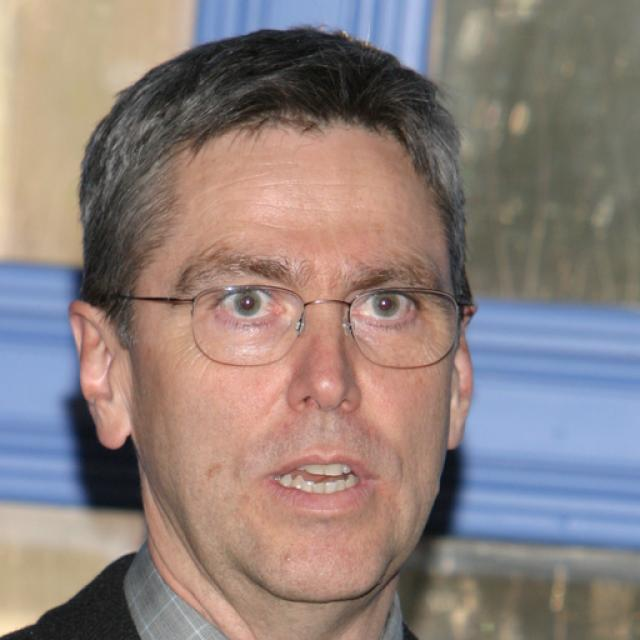Acne: (278, 550, 295, 570), (309, 216, 329, 233)
Wrinkle: (264, 176, 382, 191), (206, 170, 272, 194), (257, 199, 345, 214)
